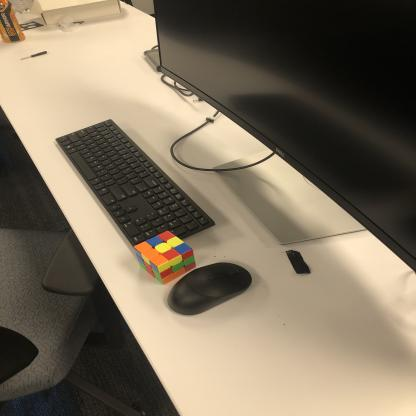UnsolvedCube: (132, 226, 196, 283)
